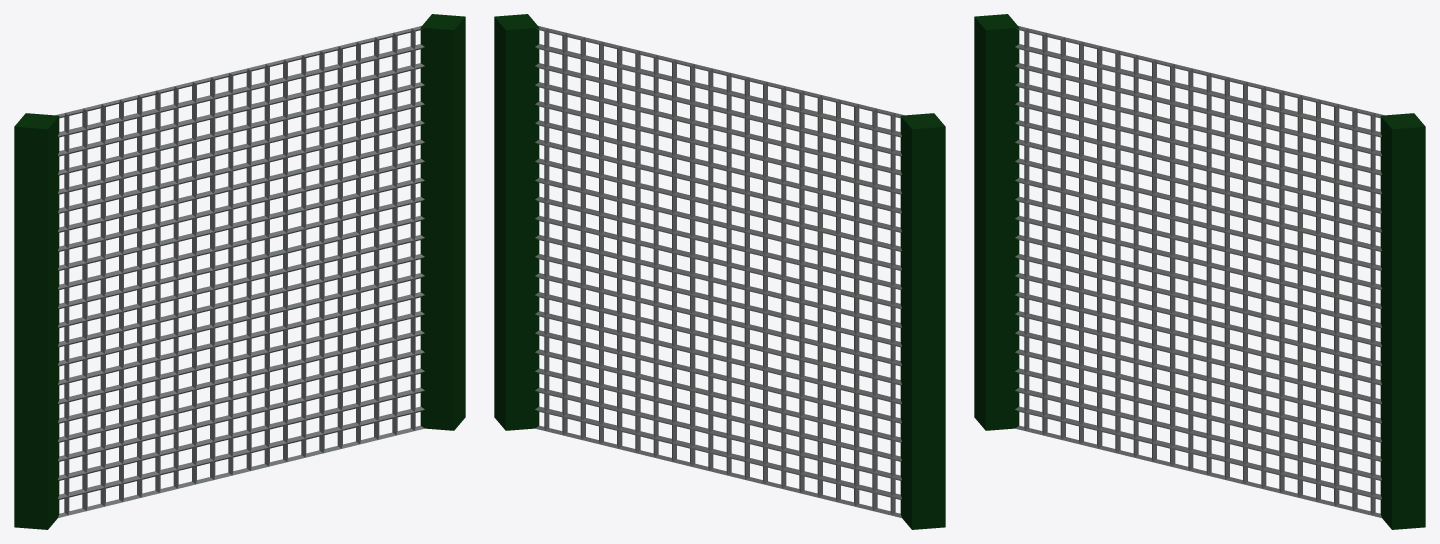
The model's file is Fence.fbx.
3 renders of one model, left to right at view 1: azimuth 30°, elevation 25°; view 2: azimuth 150°, elevation 25°; view 3: azimuth 330°, elevation 25°, orthographic.
Visible parts, largest first — view 1: 平面; view 2: 平面; view 3: 平面.
Boxes of the visible parts, <box> form: 平面: <box>14,14,465,529</box>; 平面: <box>494,14,945,529</box>; 平面: <box>974,14,1425,529</box>.
Bounding box in the file's own units: 236 × 200 × 20.
